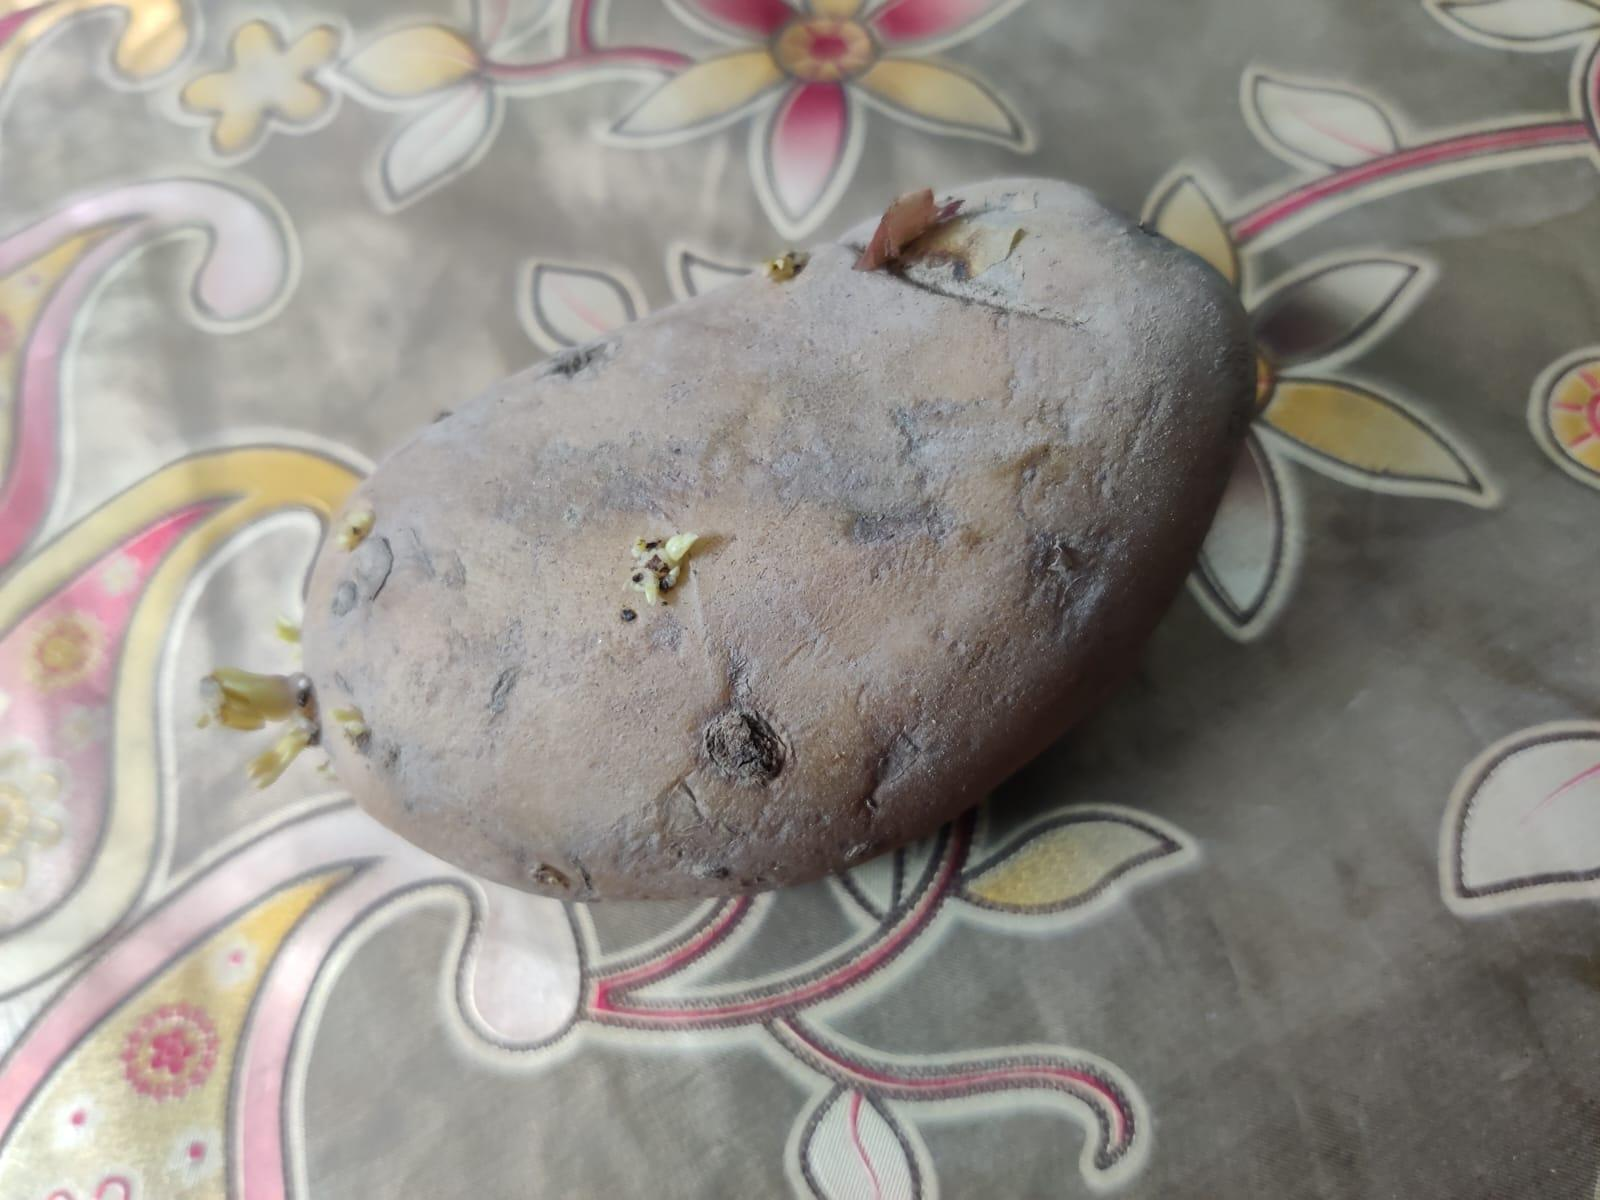non-mango: (280, 178, 1286, 910)
